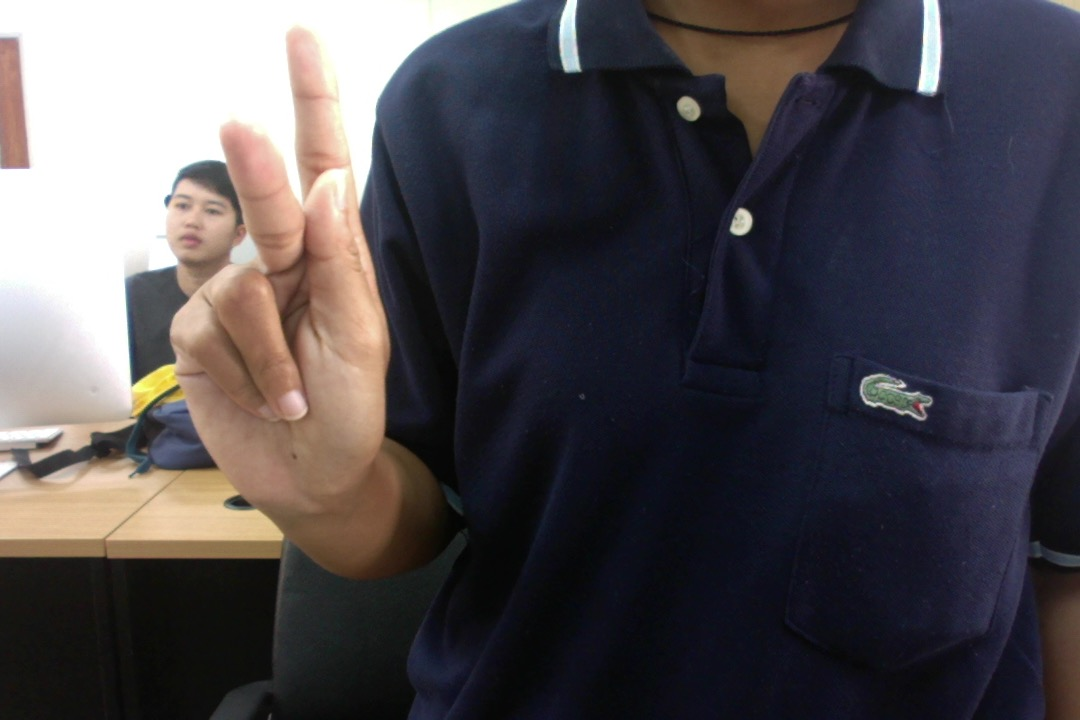ko: (135, 19, 408, 545)
